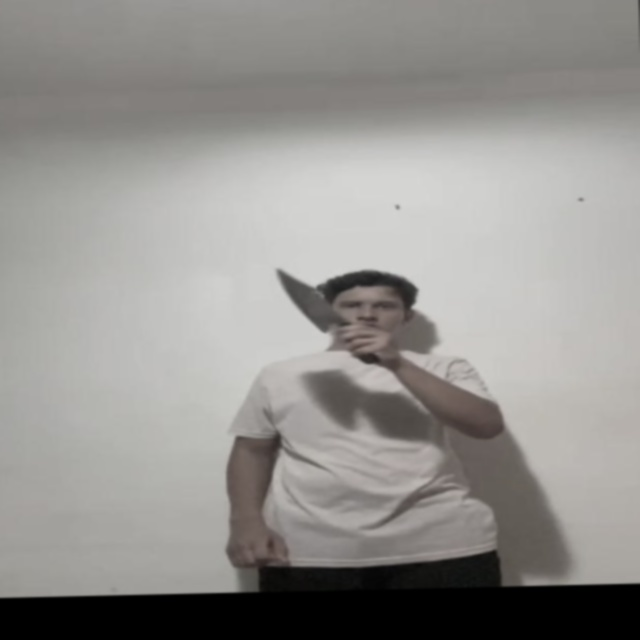Sharp-Object: (268, 264, 342, 328)
